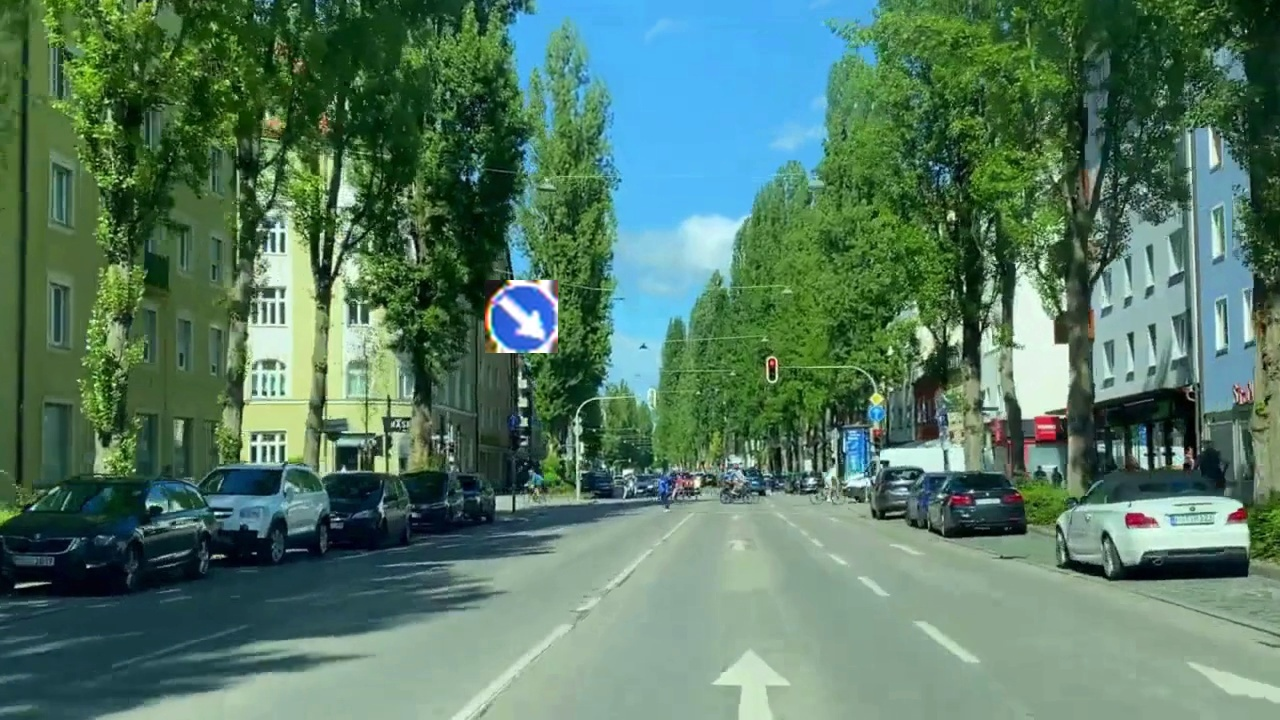Keep right: (485, 280, 558, 353)
